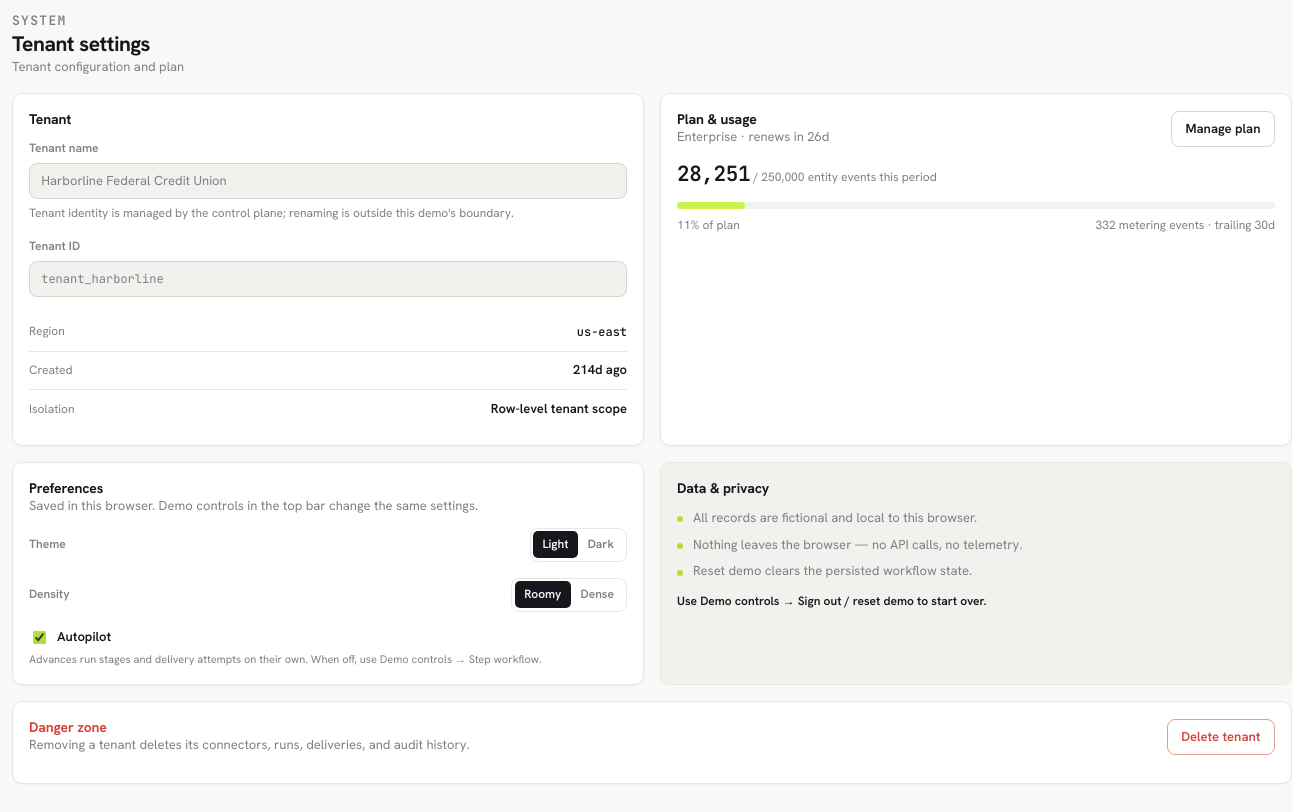
Test: SettingsPage › explains that no billing portal is connected
Click the button "Manage plan": (1223, 129) [1171, 111, 1275, 147]
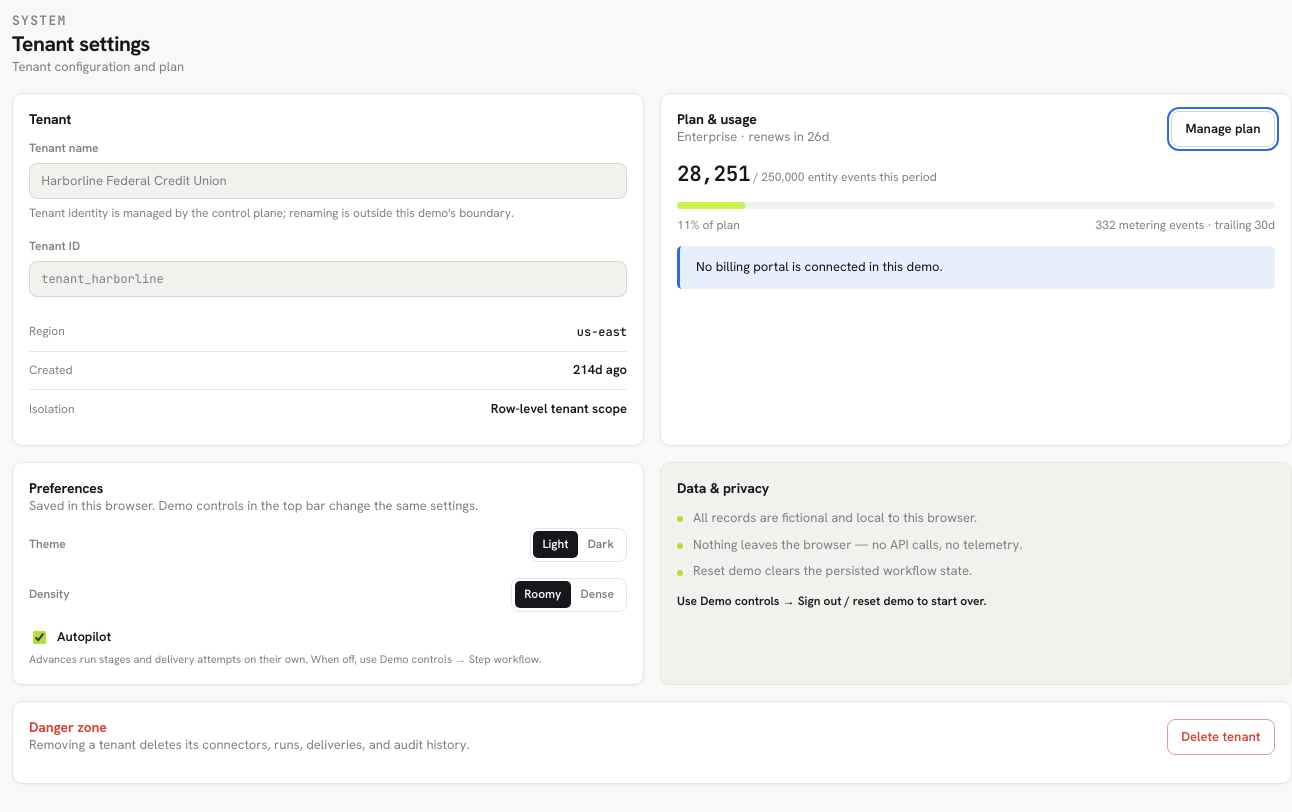
Expected: the text "No billing portal is connected in this demo." is shown, [677, 246, 1275, 289]
